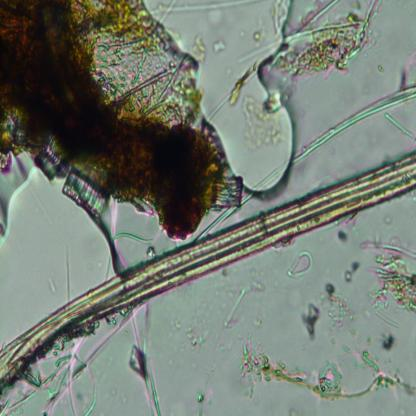Anthropogenic: (0, 149, 416, 385)
Background material: (0, 0, 227, 234), (229, 339, 416, 412), (280, 0, 381, 77), (0, 340, 95, 416), (104, 304, 161, 416), (364, 260, 416, 323), (244, 95, 286, 152), (188, 24, 217, 69), (224, 284, 248, 338), (122, 339, 153, 380), (322, 285, 354, 323), (298, 294, 325, 335), (180, 316, 212, 349), (245, 269, 264, 298), (191, 392, 210, 415), (378, 332, 395, 352), (214, 36, 229, 56), (343, 267, 358, 285), (336, 231, 352, 243)
Diatom: (35, 135, 110, 219), (198, 172, 246, 214)
Glass filter fibre: (289, 83, 416, 164), (200, 156, 293, 236), (151, 0, 254, 17), (295, 1, 339, 38), (237, 35, 282, 64), (206, 87, 242, 121), (357, 240, 416, 260), (385, 111, 414, 138), (288, 249, 314, 278), (111, 230, 159, 244), (374, 310, 399, 328), (83, 393, 98, 416)
